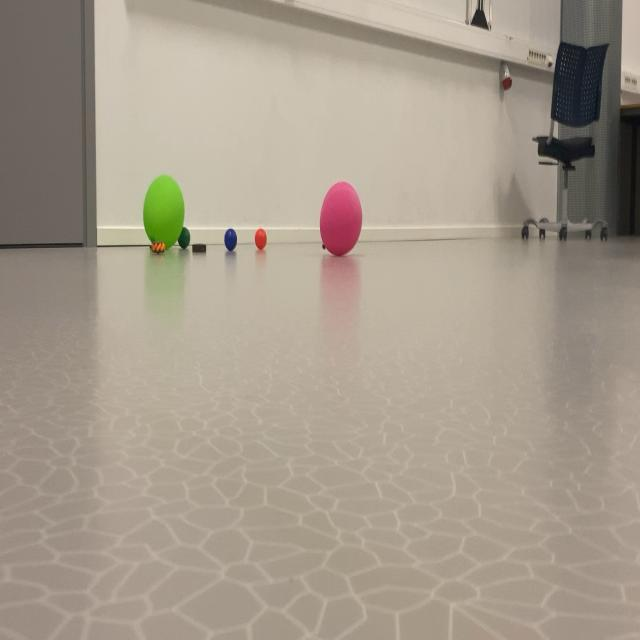7: (250, 198, 267, 265)
green ball: (217, 189, 241, 262)
red ball: (216, 202, 273, 291), (176, 225, 191, 255)
